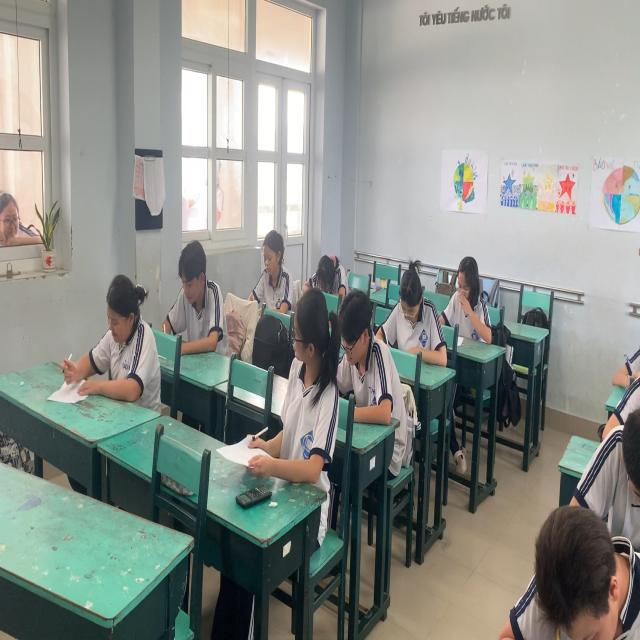cheating: (284, 290, 342, 499)
not_cheating: (515, 489, 640, 640), (81, 262, 158, 415), (335, 277, 396, 418), (168, 241, 226, 359), (378, 251, 440, 361), (442, 235, 491, 345), (253, 217, 293, 310), (304, 241, 350, 300)
